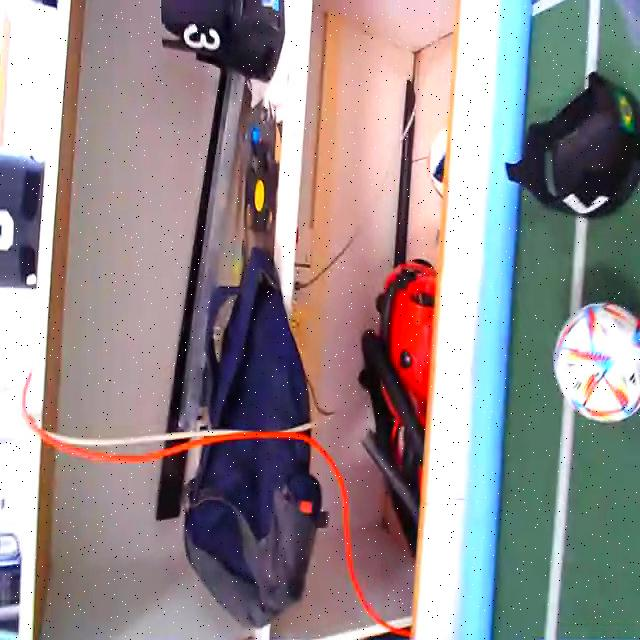ball: (554, 302, 640, 421)
